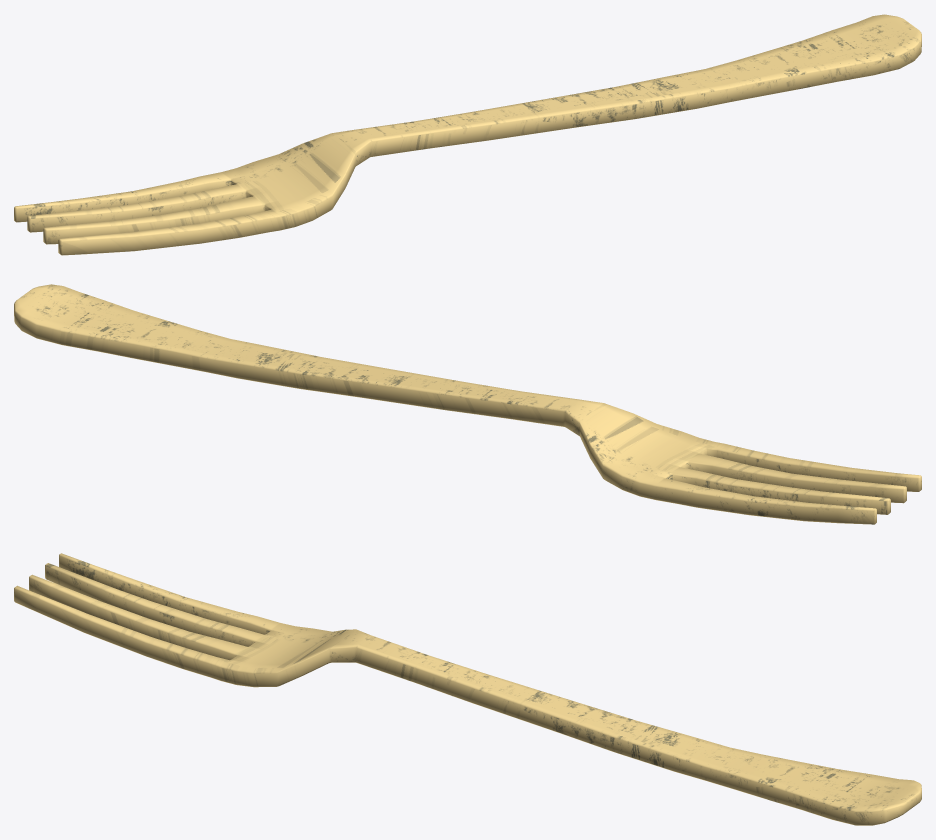
File: 3DArt_Props_Fork_Model_Amanda_V1.fbx
3 views of the same model, one above another, from view 1: azimuth 30°, elevation 25°; view 2: azimuth 150°, elevation 25°; view 3: azimuth 330°, elevation 25° (orthographic).
Parts seen in each view (by area): view 1: Plane003; view 2: Plane003; view 3: Plane003.
Part boxes in pixels (x1,y1,x2,y2): Plane003: (14, 14, 921, 255); Plane003: (14, 284, 921, 524); Plane003: (14, 553, 921, 825).
Size of the model in its own units: 77.73 by 3.95 by 9.35.
1 material, 1 textured.
